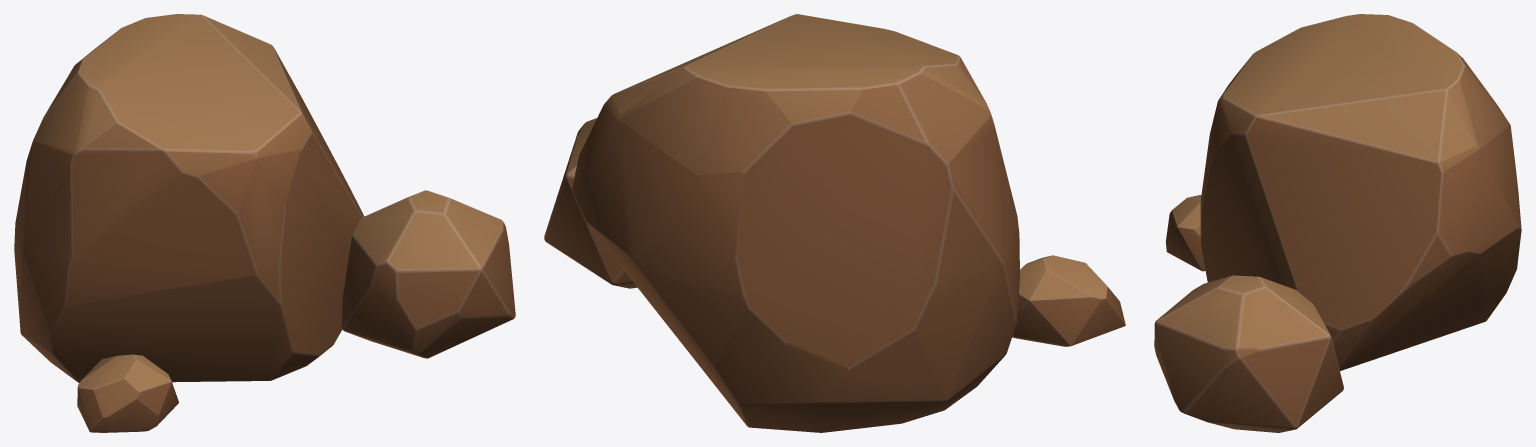
Rendered from rock_earth_a.glb.
3 renders of one model, left to right at view 1: azimuth 30°, elevation 25°; view 2: azimuth 150°, elevation 25°; view 3: azimuth 270°, elevation 25°, orthographic. The views are drawn at different scales.
Visible parts, largest first — view 1: rock_earth_a; view 2: rock_earth_a; view 3: rock_earth_a.
Part boxes in pixels (<box>): rock_earth_a: <box>14,14,515,432</box>; rock_earth_a: <box>544,14,1125,432</box>; rock_earth_a: <box>1154,14,1521,432</box>.
Bounding box in the file's own units: 1.39 × 0.8332 × 1.02.
